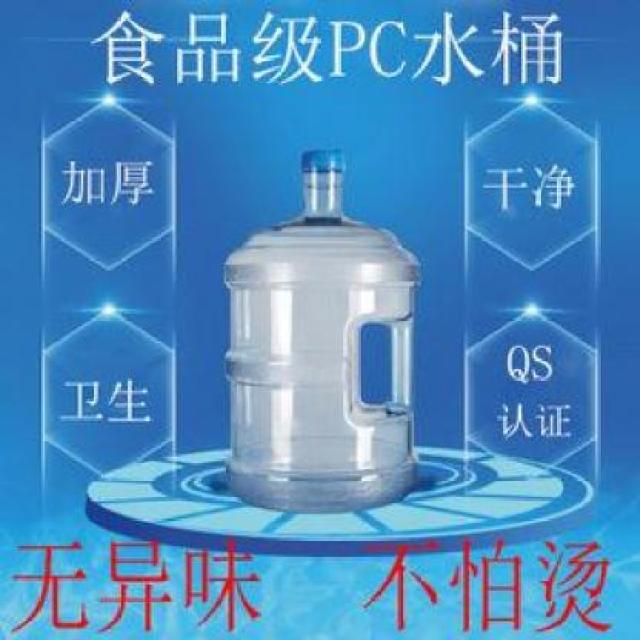coolerbottle: (218, 145, 428, 522)
